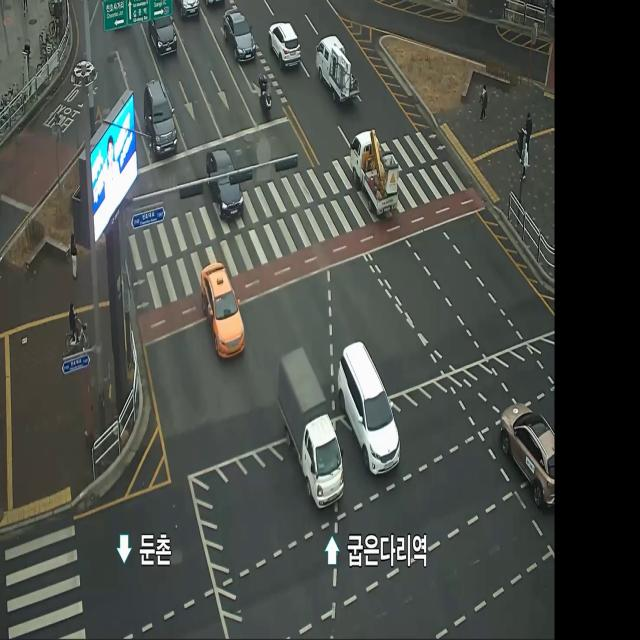bus: (257, 74, 272, 119)
motorcycle: (338, 342, 398, 473), (499, 399, 554, 512), (202, 262, 246, 360), (206, 147, 244, 224), (144, 79, 178, 159), (268, 21, 302, 73), (224, 7, 256, 62), (148, 12, 177, 55)
truck: (276, 353, 341, 508), (347, 129, 398, 221), (314, 33, 356, 106)
